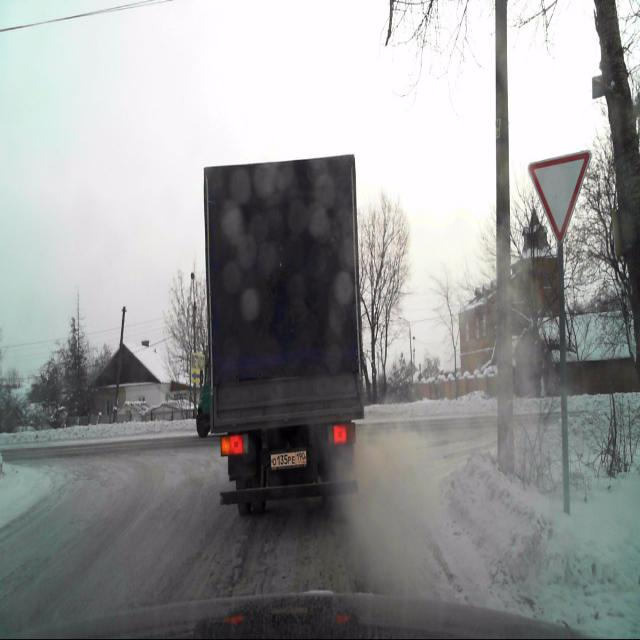road sign: (526, 154, 590, 244), (556, 235, 571, 516)
